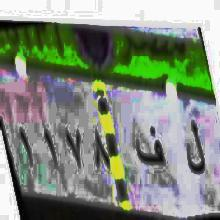1: (18, 122, 36, 179), (44, 128, 59, 177)
7: (61, 116, 85, 178)
8: (88, 128, 112, 176)
faa: (135, 123, 167, 176)
laam: (183, 113, 207, 189)
